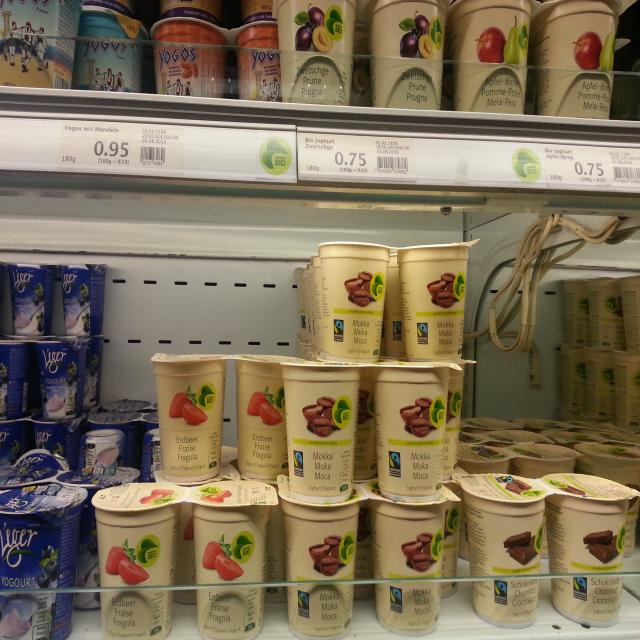Yoghurt: (91, 478, 281, 640), (279, 472, 462, 640), (461, 466, 640, 629), (281, 358, 462, 502), (314, 240, 480, 362), (448, 1, 622, 116), (154, 352, 308, 479), (275, 2, 448, 107), (0, 483, 88, 640), (367, 486, 460, 630), (150, 19, 281, 101), (5, 260, 114, 338), (0, 340, 89, 418)
